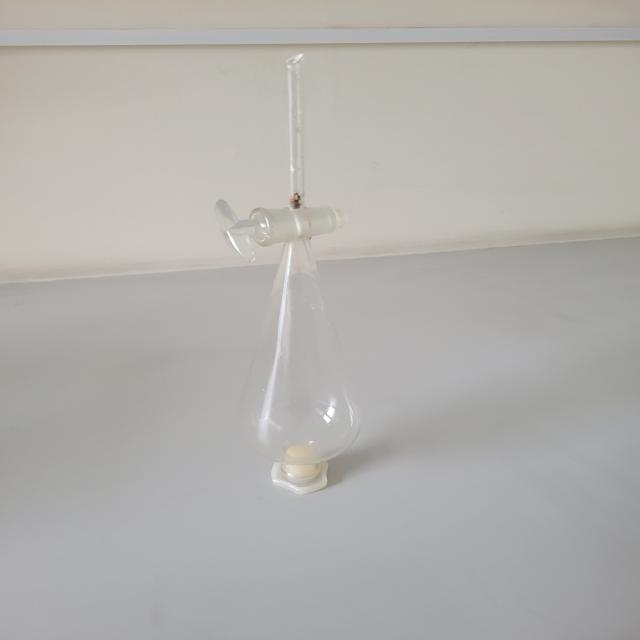Separating_Funnel: (184, 33, 416, 530)
